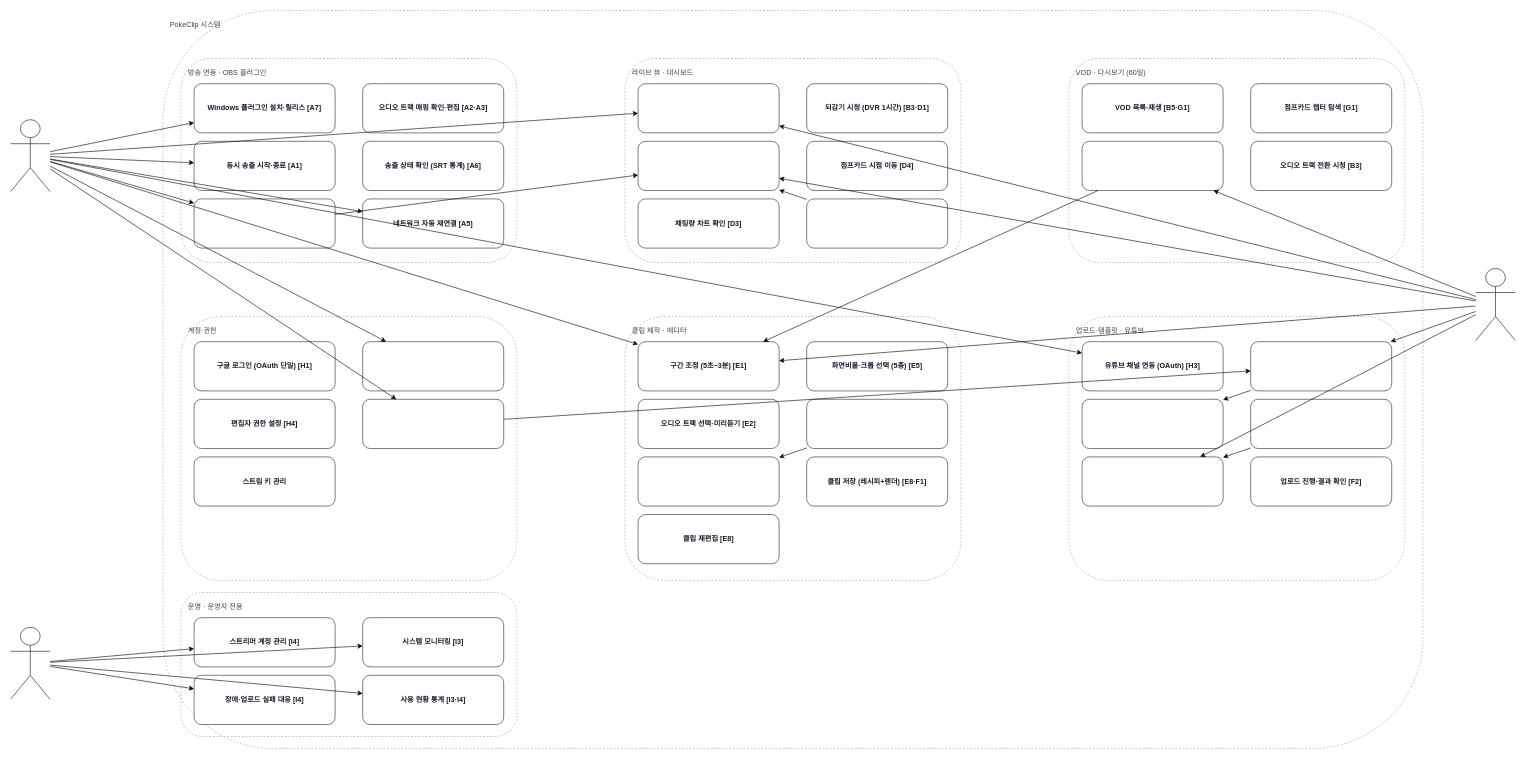
The diagram is 1526 pixels wide and 759 high, and some of its shapes have lost their labels. The centre of each missing label's shape, as x and y in pixels:
"AI 자막 생성 (Whisper) [E4]" goes at (877,423).
"CC 자막 등록 [F5]" goes at (1152,423).
"VOD에서 클립 제작 [G2]" goes at (1152,165).
"라이브 저지연 시청 [D1·B3]" goes at (708,108).
"스트리머" goes at (30,155).
"운영자" goes at (30,663).
"원클릭 자동 업로드 [F4]" goes at (1152,481).
"점프카드 목록 확인 [D2]" goes at (708,165).
"추천 제목 확인·수정 [E7]" goes at (708,481).
"클립 승인 (스트리머) [H5]" goes at (433,423).
"클립 업로드 [F3]" goes at (1321,366).
"템플릿 설정 [F4]" goes at (1321,423).
"편집자" goes at (1495,304).
"편집자 초대 (링크) [H4]" goes at (433,366).
"하이라이트 자동 탐지 [C3]" goes at (877,223).
"핫키 하이라이트 마킹 [A4]" goes at (264,223).
